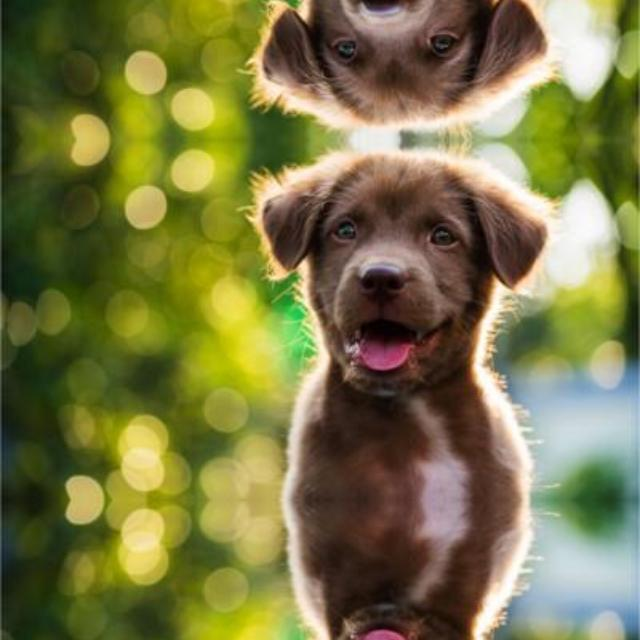dog: (249, 146, 551, 398), (249, 0, 551, 134), (249, 601, 551, 640)
